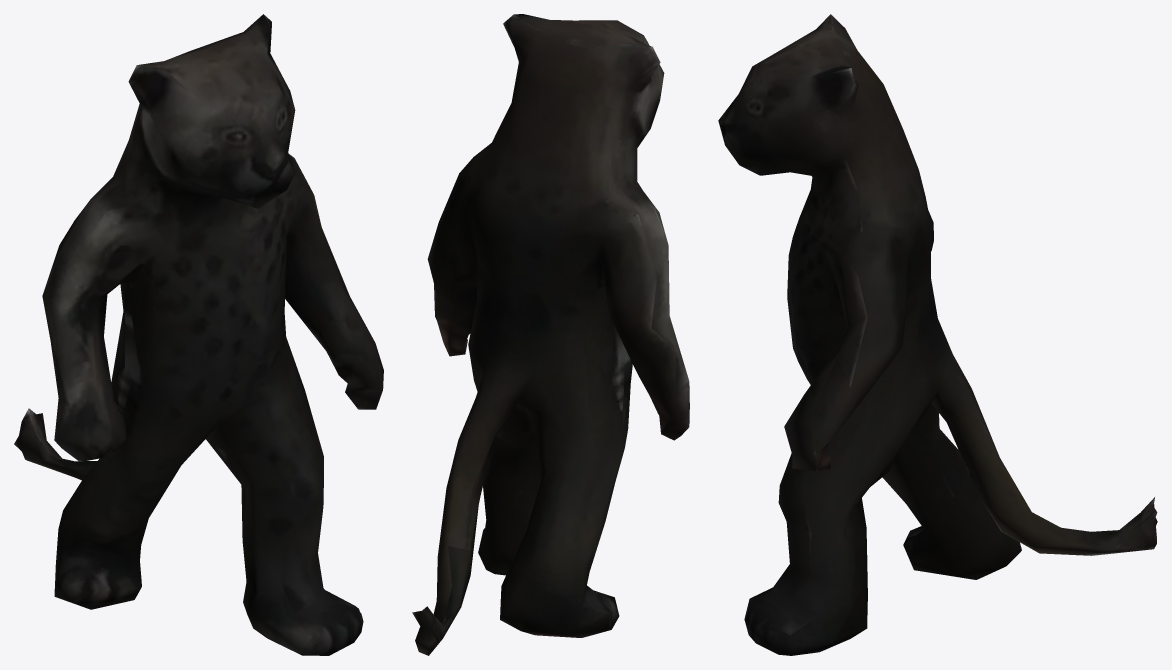
File: mob_black_jaguar.glb
3 renders of one model, left to right at view 1: azimuth 30°, elevation 25°; view 2: azimuth 150°, elevation 25°; view 3: azimuth 270°, elevation 25°, orthographic. The views are drawn at different scales.
Visible parts, largest first — view 1: geometry_0; view 2: geometry_0; view 3: geometry_0.
Part boxes in pixels (x1,y1,x2,y2): geometry_0: (14, 14, 383, 655); geometry_0: (412, 14, 689, 655); geometry_0: (718, 14, 1157, 655).
Size of the model in its own units: 0.744 by 1.44 by 1.02.
Materials: 1 (1 with a texture image).
